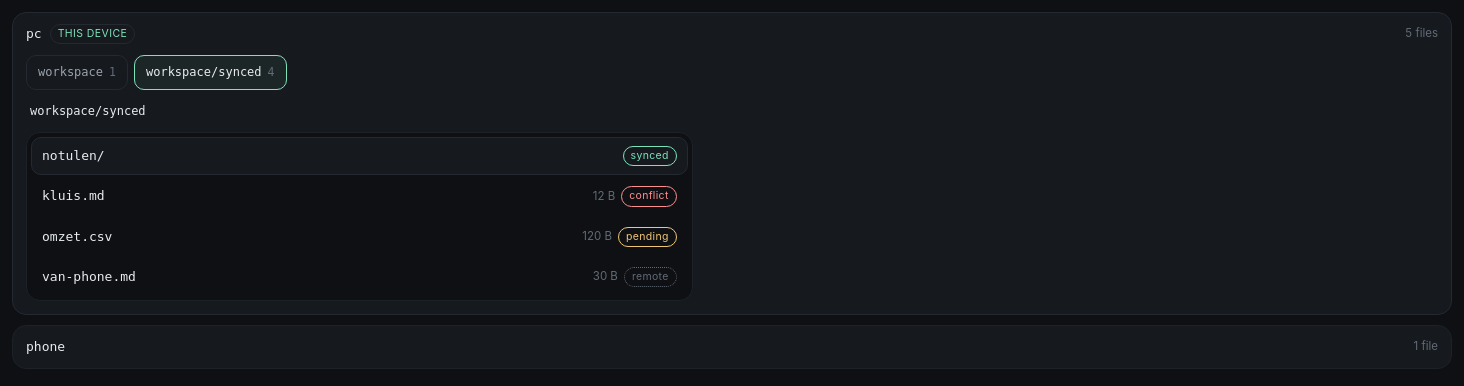
FileExplorer › opens a preview with the text the loader returns
The width and height of the screenshot is (1464, 386).
Step 1. Click the button "omzet.csv 120 B pending" → (77, 236), box top-left (31, 218), bottom-right (688, 256)
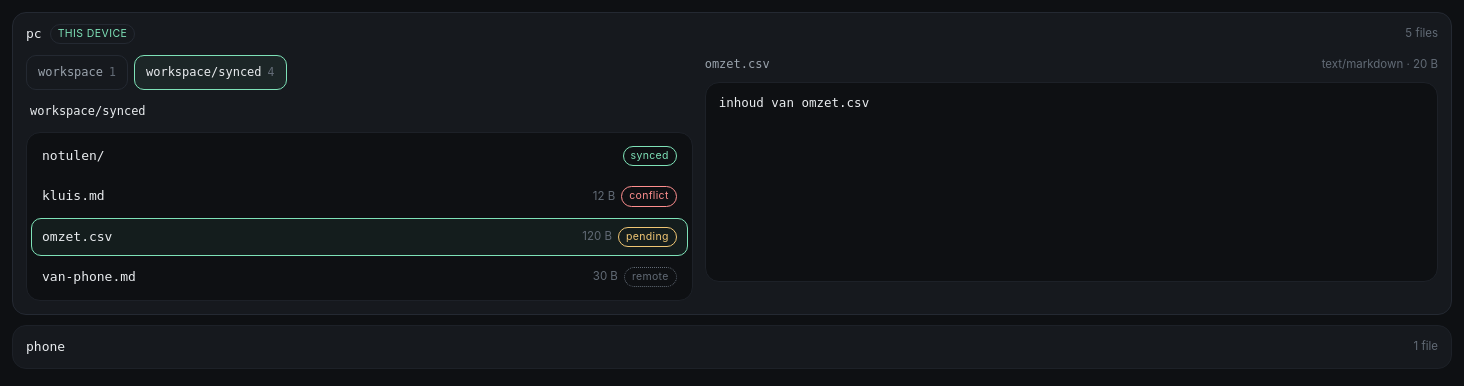
Now the text with class "explorer__pre" reads "inhoud van omzet.csv", box top-left (719, 95), bottom-right (869, 110)
Now the text "text/markdown" is shown, box top-left (1322, 57), bottom-right (1438, 71)
